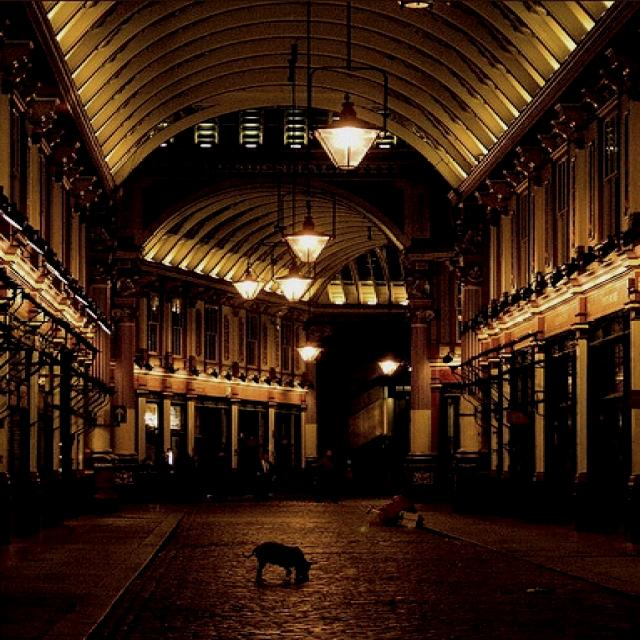Dog: (214, 527, 393, 607)
